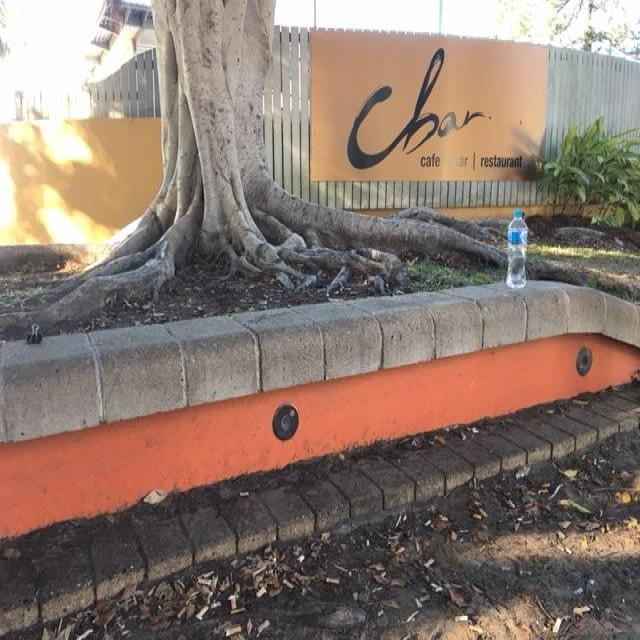litter: (506, 219, 528, 287)
